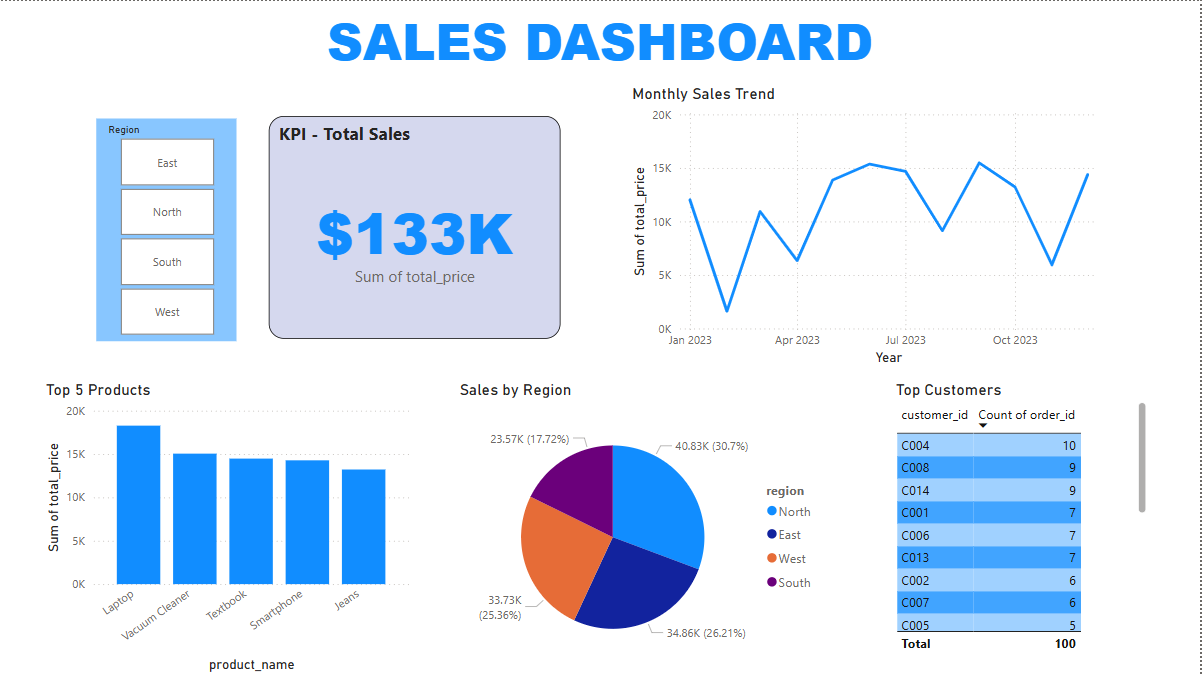

What the dashboard file says about the page in this screenshot:
{"tool":"powerbi","page":{"name":"Page 1","canvas":[1280,720],"ordinal":0},"visuals":[{"type":"card","title":"KPI - Total Sales","fields":{"Values":["Sum(SalesData.total_price)"]},"box":[286.8,122.1,311.5,237.4],"z":0},{"type":"lineChart","title":"Monthly Sales Trend","fields":{"Category":["SalesData.order_date.Variation.Date Hierarchy.Year","SalesData.order_date.Variation.Date Hierarchy.Month"],"Y":["Sum(SalesData.total_price)"]},"box":[639.5,85.1,553,318.4],"z":1},{"type":"columnChart","title":"Top 5 Products","fields":{"Category":["SalesData.product_name"],"Y":["Sum(SalesData.total_price)"]},"box":[43.9,403.4,397.9,317],"z":2},{"type":"pieChart","title":"Sales by Region","fields":{"Category":["SalesData.region"],"Y":["Sum(SalesData.total_price)"]},"box":[485.8,403.4,397.9,317],"z":3},{"type":"tableEx","title":"Top Customers","fields":{"Values":["SalesData.customer_id","SalesData.order_id"]},"box":[950.9,403.4,277.2,297.8],"z":4},{"type":"slicer","title":"ret===","fields":{"Values":["SalesData.region"]},"box":[102.9,124.9,149.6,237.4],"z":5}]}

Visuals, with their boxes in screenshot pixels (x1, y1, x2, y2), scaled from the page's 1280x720 canvas onto the 1202x675 screenshot:
"KPI - Total Sales" card: bbox(269, 114, 562, 337)
"Monthly Sales Trend" lineChart: bbox(601, 80, 1120, 378)
"Top 5 Products" columnChart: bbox(41, 378, 415, 674)
"Sales by Region" pieChart: bbox(456, 378, 830, 674)
"Top Customers" tableEx: bbox(893, 378, 1153, 657)
"ret===" slicer: bbox(97, 117, 237, 340)
